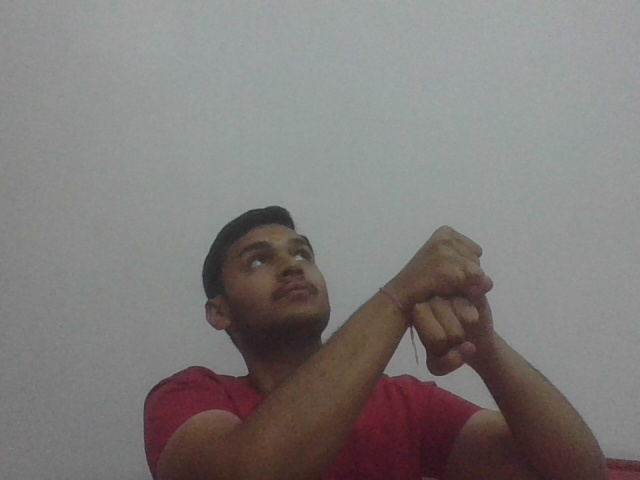S: (406, 222, 503, 380)
